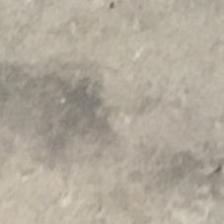Non_Crack: (4, 34, 224, 215)
